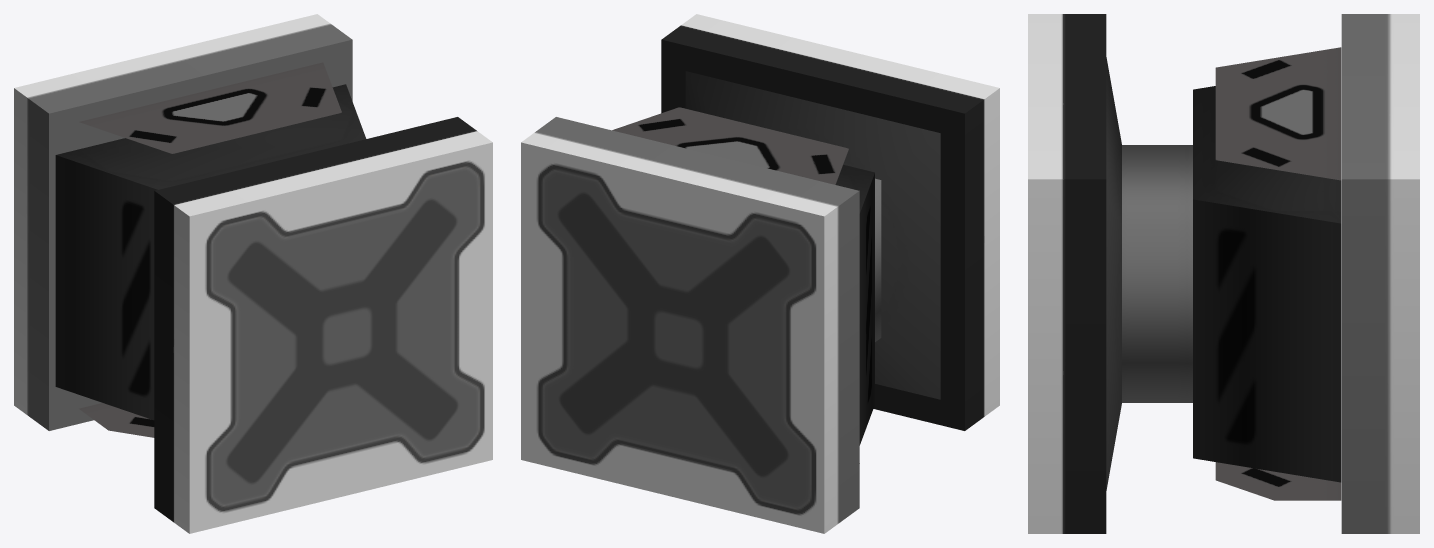
Rendered from obj_interactive_piston_03_off_lod1.fbx.
3 views of the same model, side by side, from view 1: azimuth 30°, elevation 25°; view 2: azimuth 150°, elevation 25°; view 3: azimuth 270°, elevation 25° (orthographic). The views are drawn at different scales.
Visible parts, largest first — view 1: obj_interactive_piston_03_off_lod1; view 2: obj_interactive_piston_03_off_lod1; view 3: obj_interactive_piston_03_off_lod1.
Boxes of the visible parts, box(x1,y1,x2,y2) form: obj_interactive_piston_03_off_lod1: box(14, 14, 492, 533); obj_interactive_piston_03_off_lod1: box(521, 14, 999, 533); obj_interactive_piston_03_off_lod1: box(1028, 14, 1419, 533).
Size of the model in its own units: 1 by 1 by 1.
